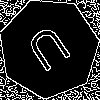U: (24, 23, 79, 81)
